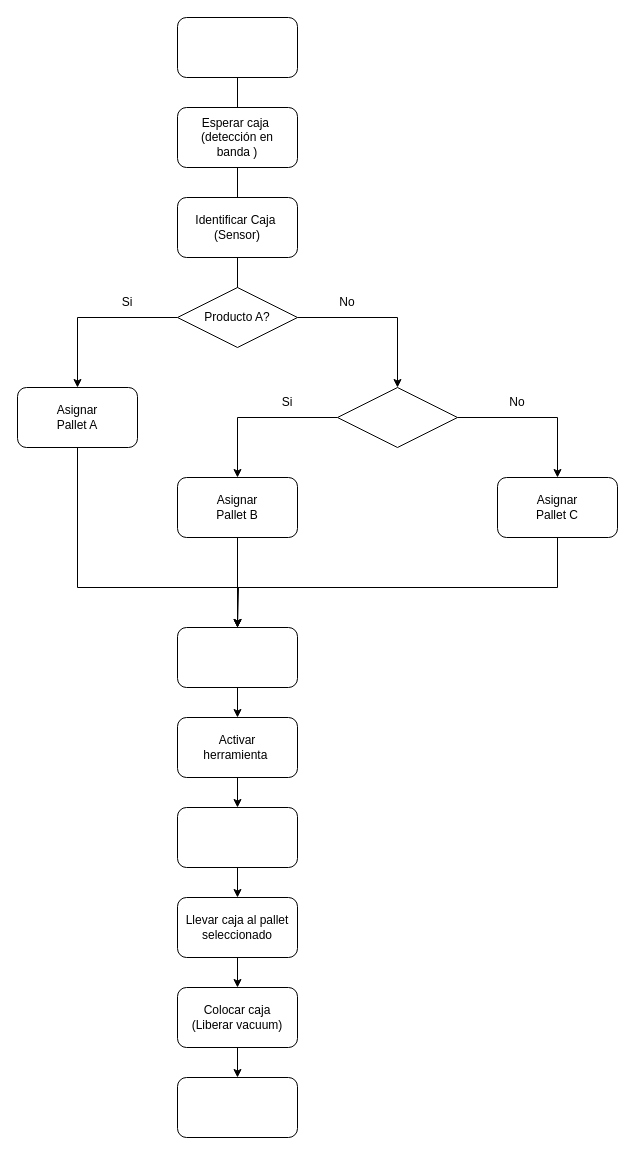
This 635x1155 diagram has some shape labels left out. The shapes that lost their labels are listed below. From the top down, each one's centre as x and y in pixels, then its label:
At (x=237, y=47): "Inicio (Robot en home)".
At (x=397, y=417): "Producto B?".
At (x=237, y=657): "Ir a la posición de toma".
At (x=237, y=837): "Levantar caja (Movimiento seguro)".
At (x=237, y=1107): "Ir a la posición de Home".
